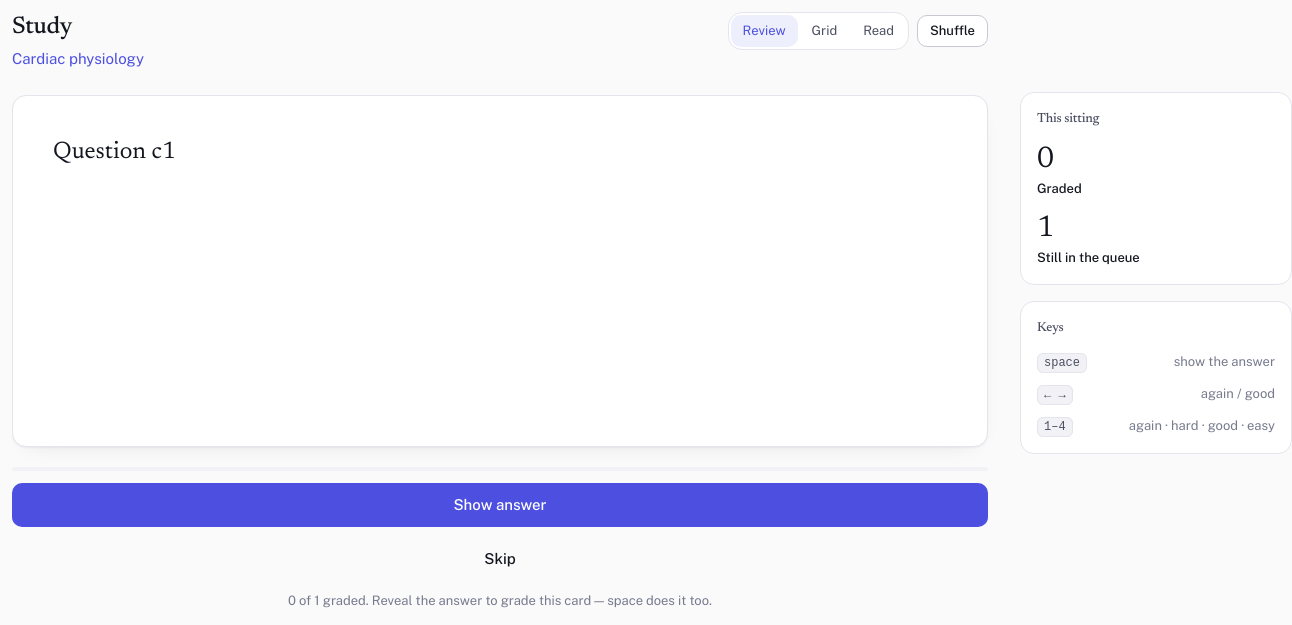
StudySession continuation › ends visibly rather than looping when the next page fails
Click the button "Show answer" at (500, 505), box [12,483,988,527]
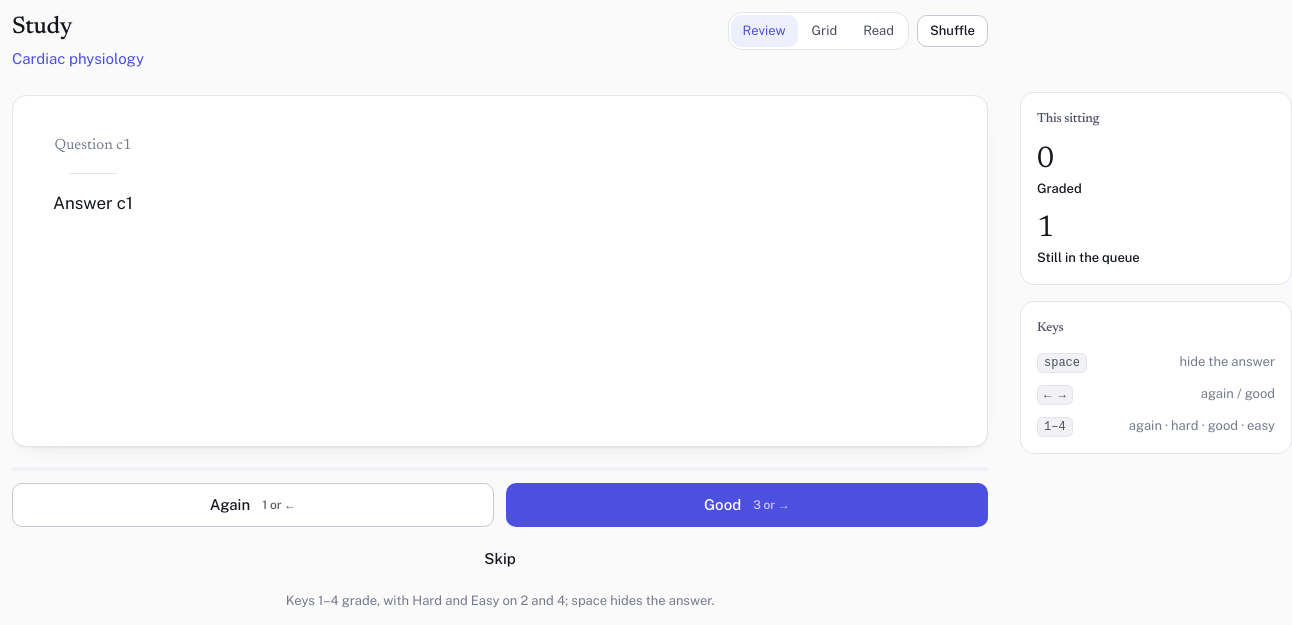
Click the button "Good 3 or →" at (723, 505), box [506,483,988,527]
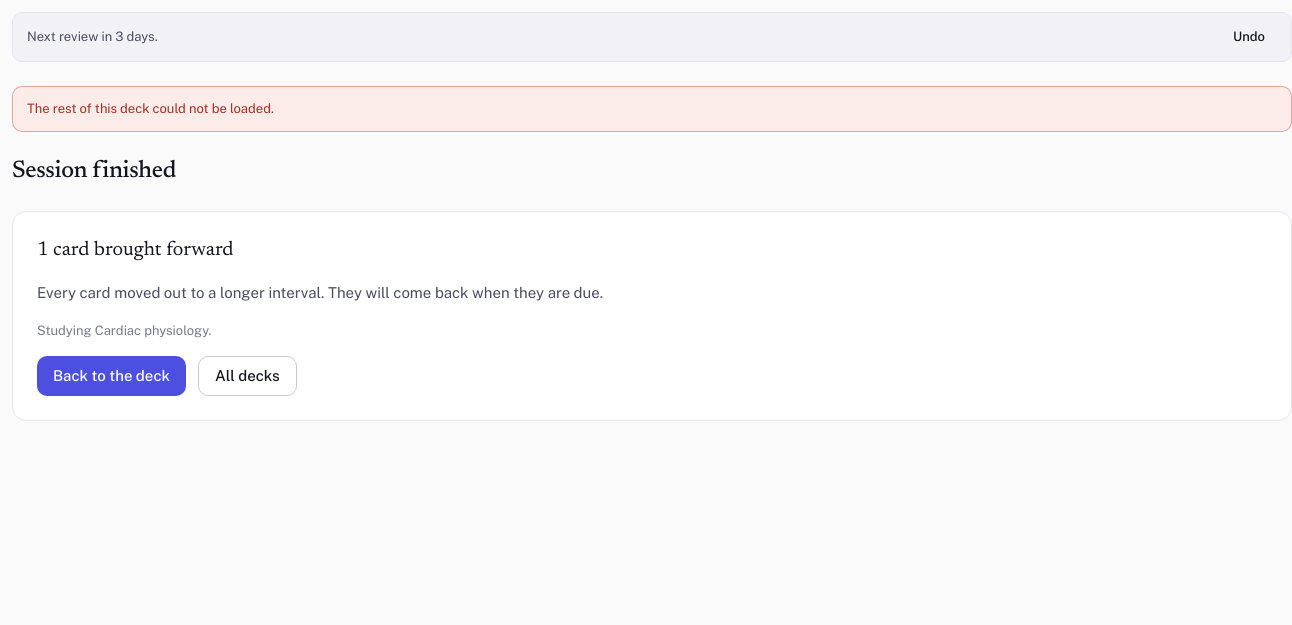
expect the text "The rest of this deck could not be loaded." is shown: met, box [27,101,274,116]
